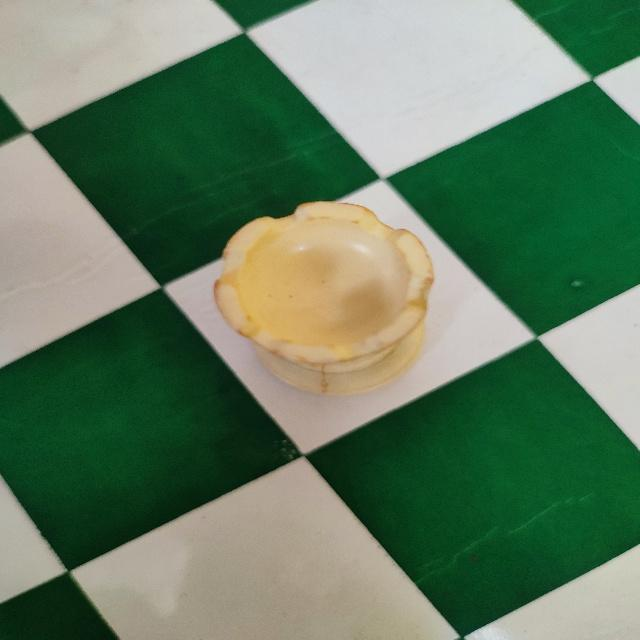Rook: (210, 198, 437, 401)
